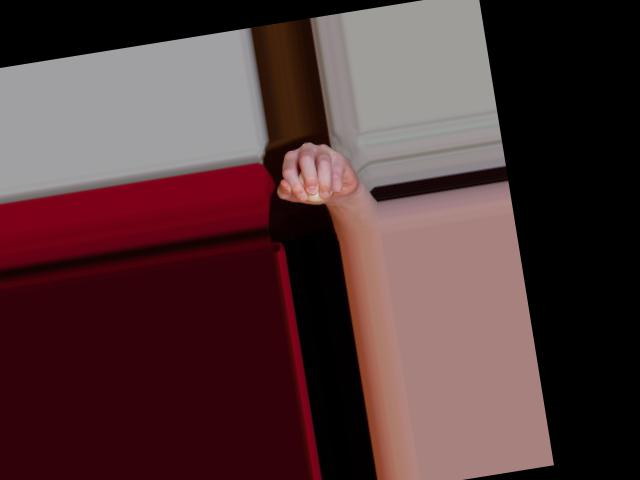egg: (293, 166, 333, 204)
